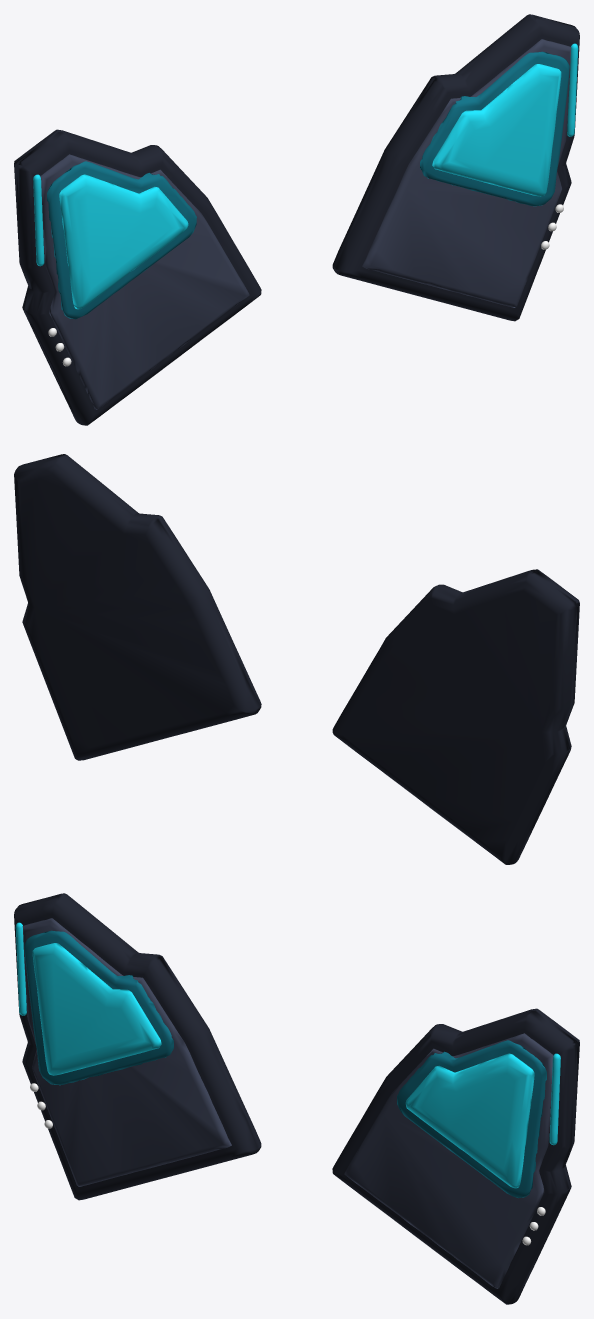
Rendered from cyber-cat-ears.glb.
3 views of the same model, one above another, from view 1: azimuth 30°, elevation 25°; view 2: azimuth 150°, elevation 25°; view 3: azimuth 330°, elevation 25° (orthographic).
Visible parts, largest first — view 1: cyber_cat_ears_inner, cyber_cat_ears_plate, cyber_cat_ears_panel, cyber_cat_ears_halo, cyber_cat_ears_strip; view 2: cyber_cat_ears_plate; view 3: cyber_cat_ears_inner, cyber_cat_ears_plate, cyber_cat_ears_panel, cyber_cat_ears_halo, cyber_cat_ears_strip.
Boxes of the visible parts, x1,y1,x2,y2 form: cyber_cat_ears_inner: (40,39,571,409); cyber_cat_ears_plate: (14,14,579,425); cyber_cat_ears_panel: (59,64,561,309); cyber_cat_ears_halo: (47,51,569,319); cyber_cat_ears_strip: (33,43,578,266); cyber_cat_ears_plate: (14,454,579,864); cyber_cat_ears_inner: (22,918,553,1288); cyber_cat_ears_plate: (14,893,579,1304); cyber_cat_ears_panel: (32,943,534,1188); cyber_cat_ears_halo: (24,930,546,1198); cyber_cat_ears_strip: (15,922,560,1145).
Bounding box in the file's own units: 1.29 × 0.655 × 0.102.
